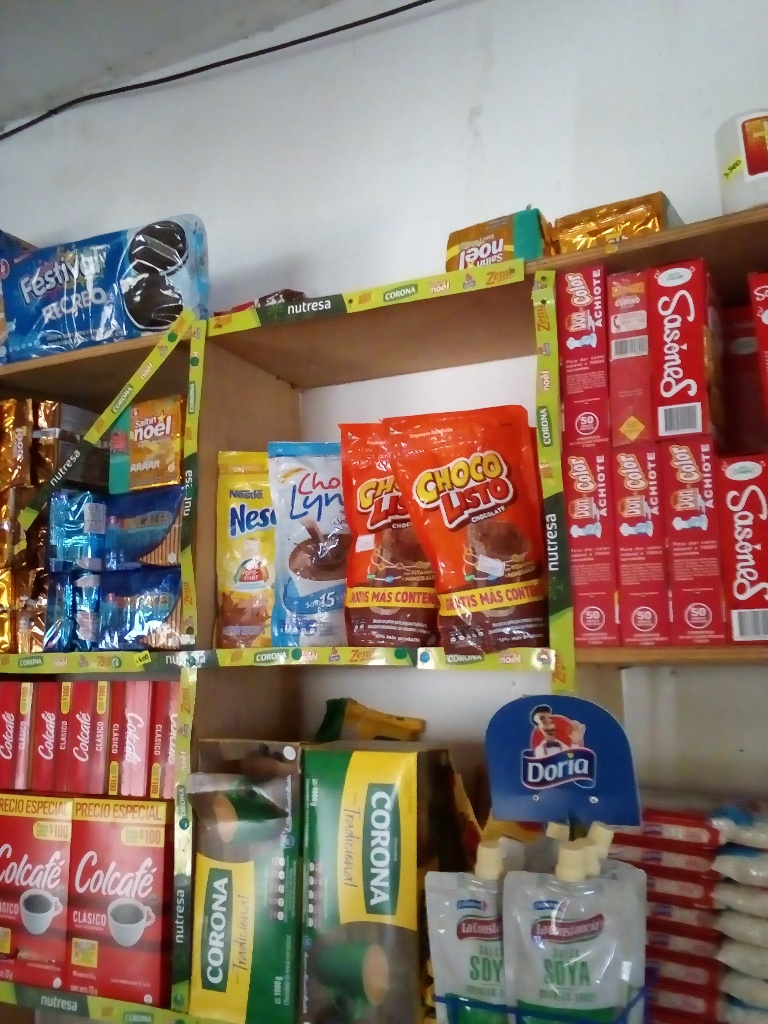COL0170303DYP20000: (213, 448, 272, 646)
